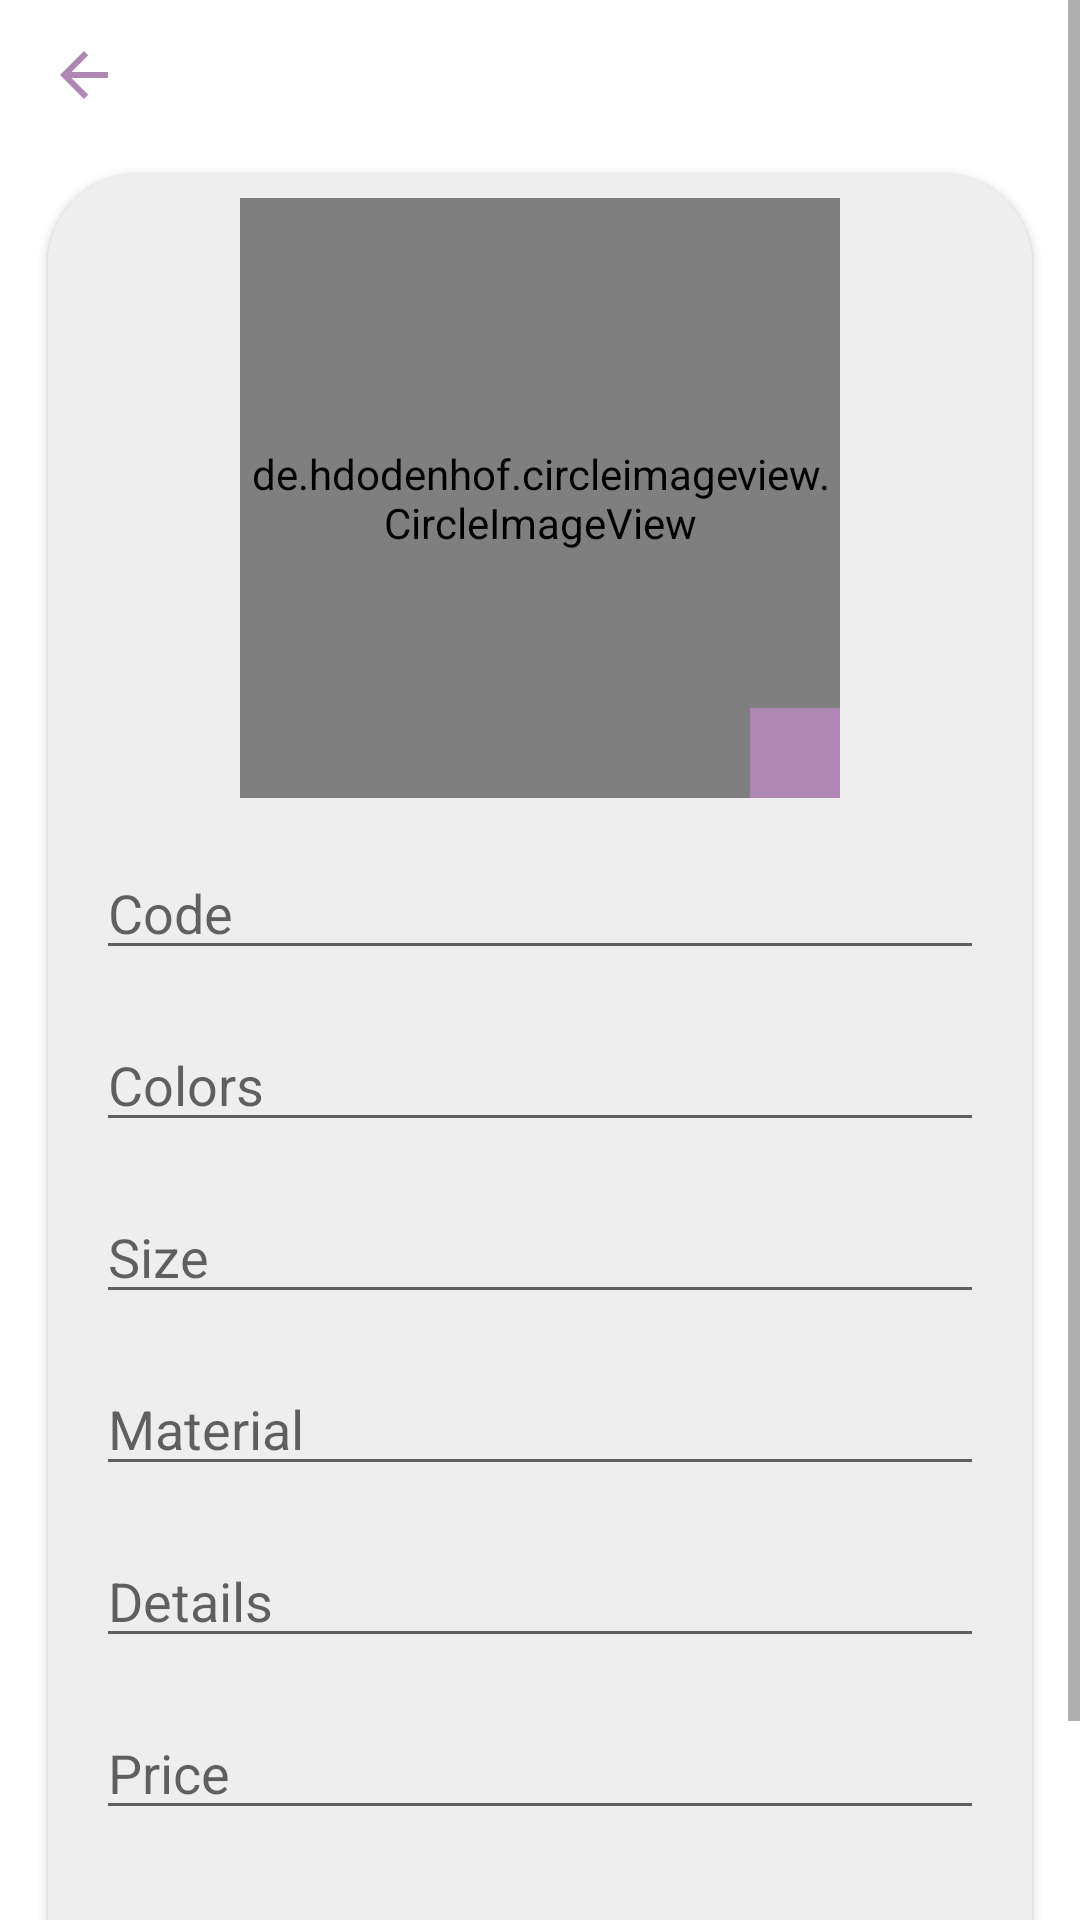

Named icons in this screenshot (1080 x 1920) and their centers, (x=x, y=y):
back: (x=84, y=75)
